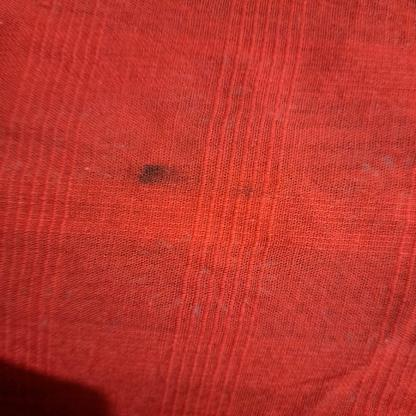spot: (132, 161, 191, 189), (233, 180, 259, 198)
